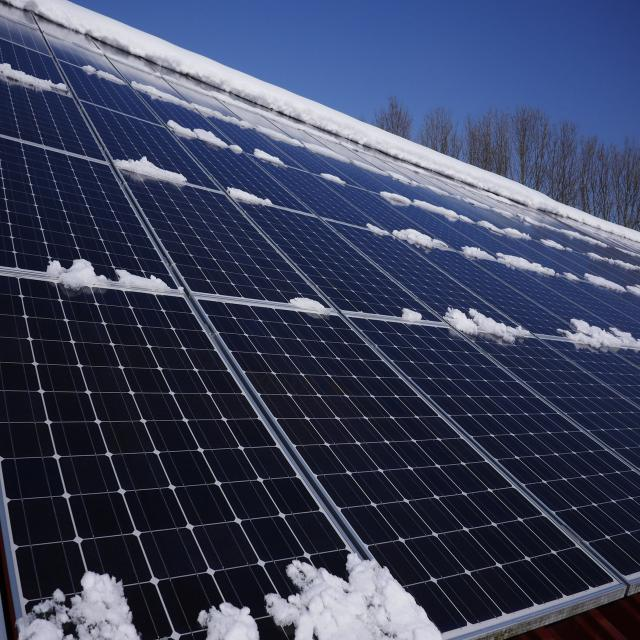snow covered: (1, 1, 637, 638)
